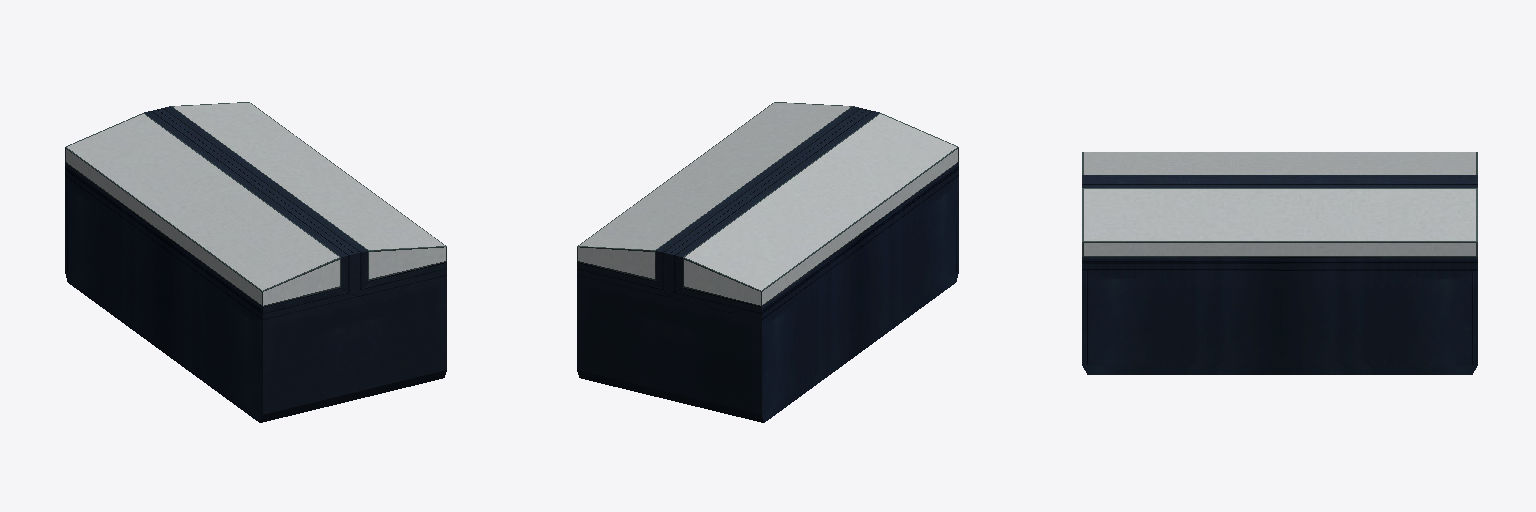
3 renders of one model, left to right at view 1: azimuth 30°, elevation 25°; view 2: azimuth 150°, elevation 25°; view 3: azimuth 270°, elevation 25°, orthographic.
Visible parts, largest first — view 1: 6; view 2: 6; view 3: 6.
Boxes of the visible parts, x1,y1,x2,y2 form: 6: [65, 102, 446, 422]; 6: [577, 102, 958, 422]; 6: [1082, 152, 1477, 374].
Size of the model in its own units: 1.3 by 0.9949 by 2.4.
2 materials, 2 textured.